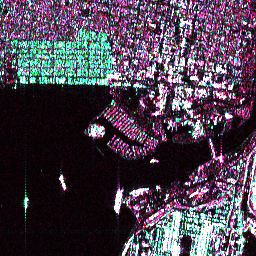ship: (112, 186, 124, 214), (128, 185, 150, 196), (57, 174, 68, 189), (22, 195, 29, 209)
